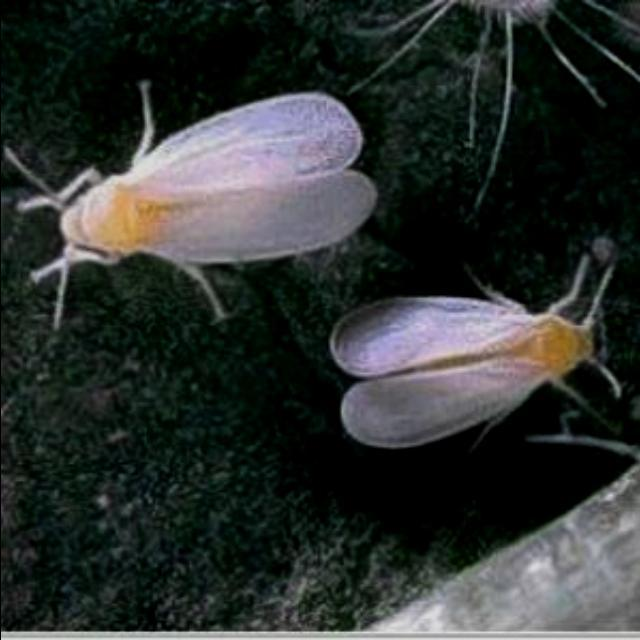Silverleaf whitefly: (1, 66, 373, 334), (313, 255, 637, 457)
